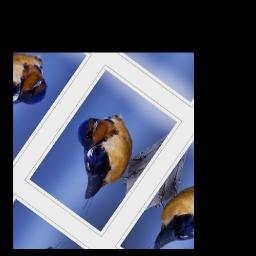Swallow: (39, 97, 161, 228)
